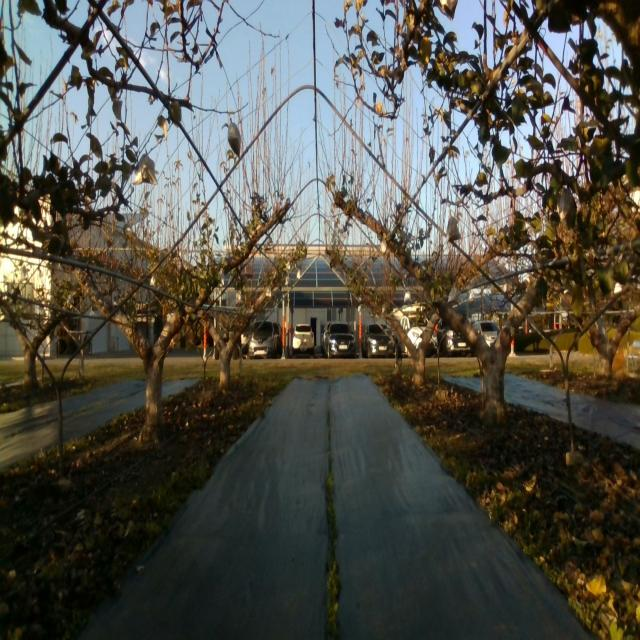pearbags: (557, 188, 577, 232), (133, 153, 157, 185), (228, 121, 241, 157), (446, 216, 460, 243), (447, 287, 460, 307)
